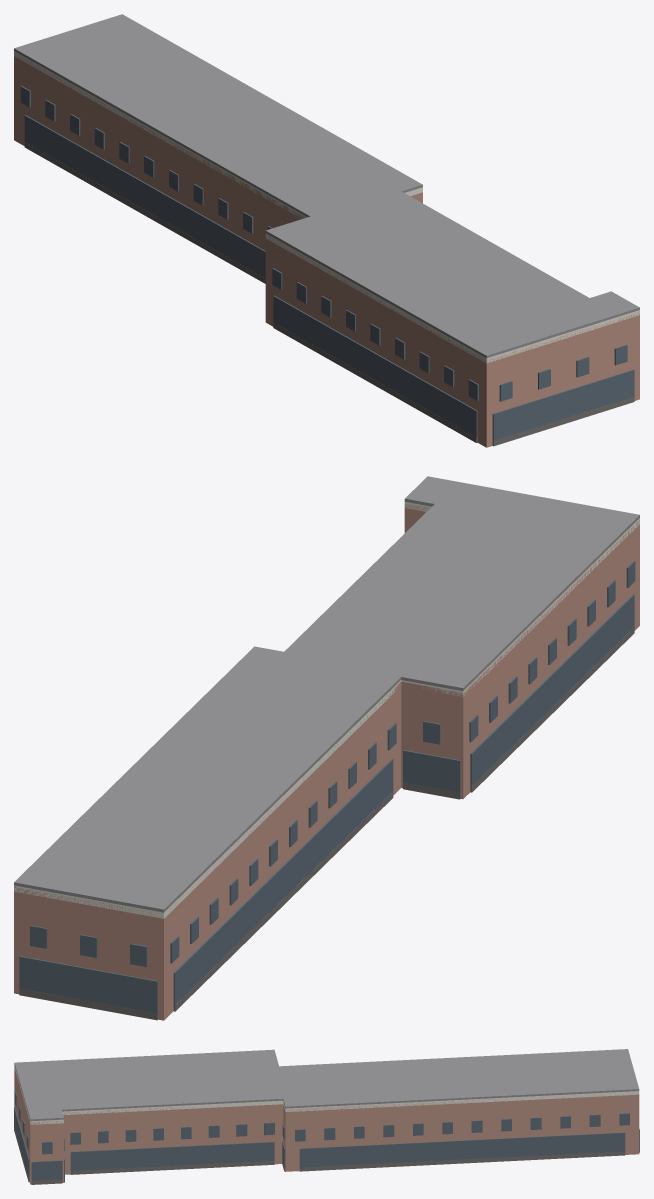
File: s20_gis_247898_820658.glb
3 views of the same model, one above another, from view 1: azimuth 30°, elevation 25°; view 2: azimuth 150°, elevation 25°; view 3: azimuth 270°, elevation 25° (orthographic). The views are drawn at different scales.
Parts seen in each view (by area): view 1: roofcap, mass, store_2, store_4, store_5, cornice, bulk_2, bulk_4, bulk_5; view 2: roofcap, mass, store_2, store_4, store_1, cornice, store_3, bulk_2, bulk_4, bulk_1; view 3: roofcap, mass, store_0, store_8, cornice, bulk_0, bulk_8, store_6, store_5.
Boxes of the visible parts, x1,y1,x2,y2 form: roofcap: (14, 14, 639, 358); mass: (14, 53, 639, 447); store_2: (24, 115, 265, 278); store_4: (273, 295, 477, 440); store_5: (492, 369, 634, 442); cornice: (14, 51, 639, 363); bulk_2: (24, 142, 265, 283); bulk_4: (273, 322, 477, 442); bulk_5: (492, 396, 634, 446); roofcap: (14, 476, 639, 912); mass: (14, 504, 639, 1020); store_2: (173, 759, 393, 1008); store_4: (470, 594, 634, 788); store_1: (19, 956, 157, 1013); cornice: (14, 502, 639, 918); store_3: (403, 750, 460, 796); bulk_2: (173, 791, 393, 1011); bulk_4: (470, 627, 634, 792); bulk_1: (19, 988, 157, 1020); roofcap: (14, 1049, 639, 1121); mass: (14, 1068, 639, 1184); store_0: (299, 1132, 625, 1167); store_8: (70, 1141, 274, 1170); cornice: (14, 1064, 639, 1124); bulk_0: (299, 1151, 625, 1171); bulk_8: (70, 1161, 274, 1174); store_6: (31, 1160, 62, 1182); store_5: (14, 1107, 29, 1178).
Size of the model in its own units: 19.48 by 8.35 by 72.75.
